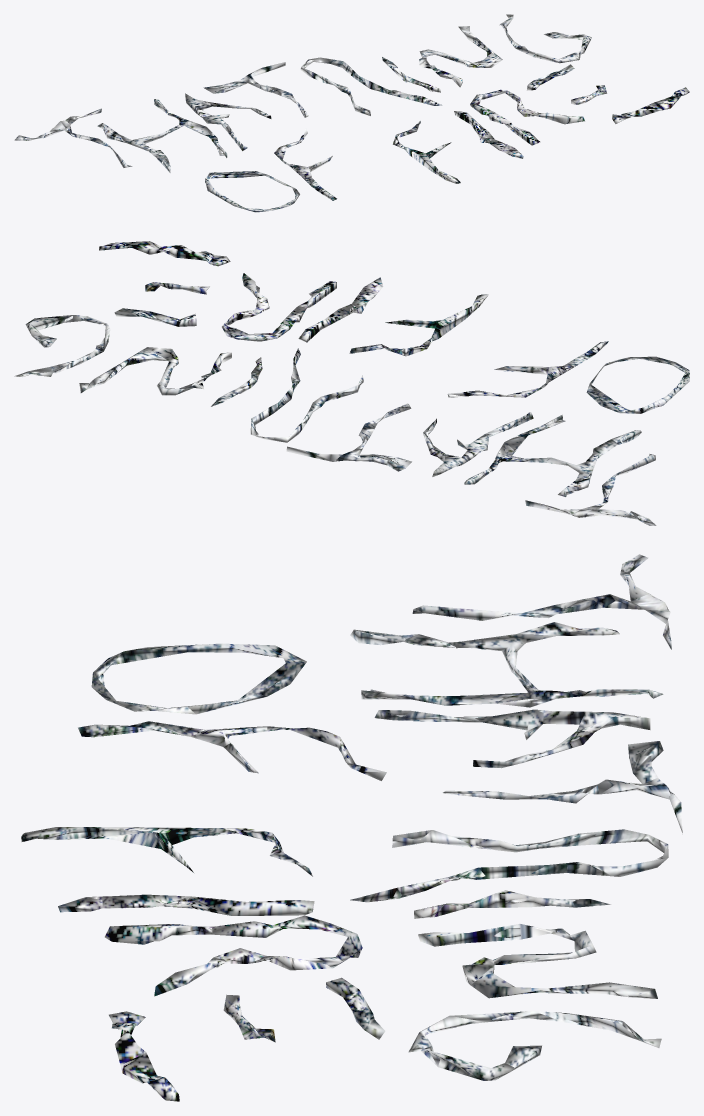
The model's file is 14_THAT_RING_OF_FIRE.glb.
3 renders of one model, top to bottom at view 1: azimuth 30°, elevation 25°; view 2: azimuth 150°, elevation 25°; view 3: azimuth 270°, elevation 25°, orthographic. The views are drawn at different scales.
Parts seen in each view (by area): view 1: 14_THAT_RING_OF_FIRE; view 2: 14_THAT_RING_OF_FIRE; view 3: 14_THAT_RING_OF_FIRE.
Part boxes in pixels (x1,y1,x2,y2): 14_THAT_RING_OF_FIRE: (14,14,689,212); 14_THAT_RING_OF_FIRE: (14,241,689,525); 14_THAT_RING_OF_FIRE: (21,554,682,1101).
Bounding box in the file's own units: 4.54 × 0.0647 × 2.33.
1 material, 1 textured.
